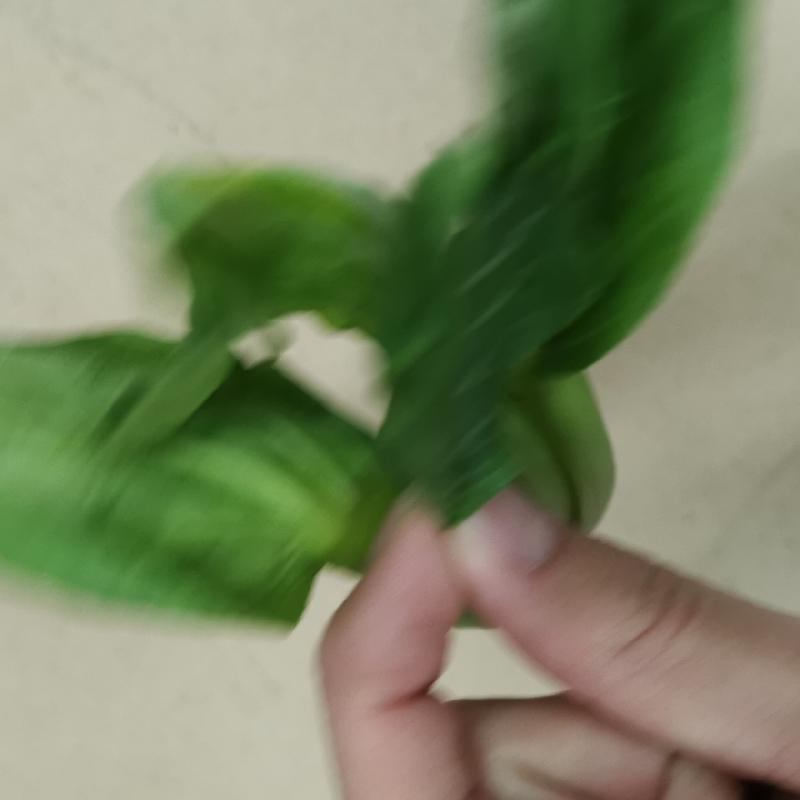green vegatable: (11, 2, 759, 629)
